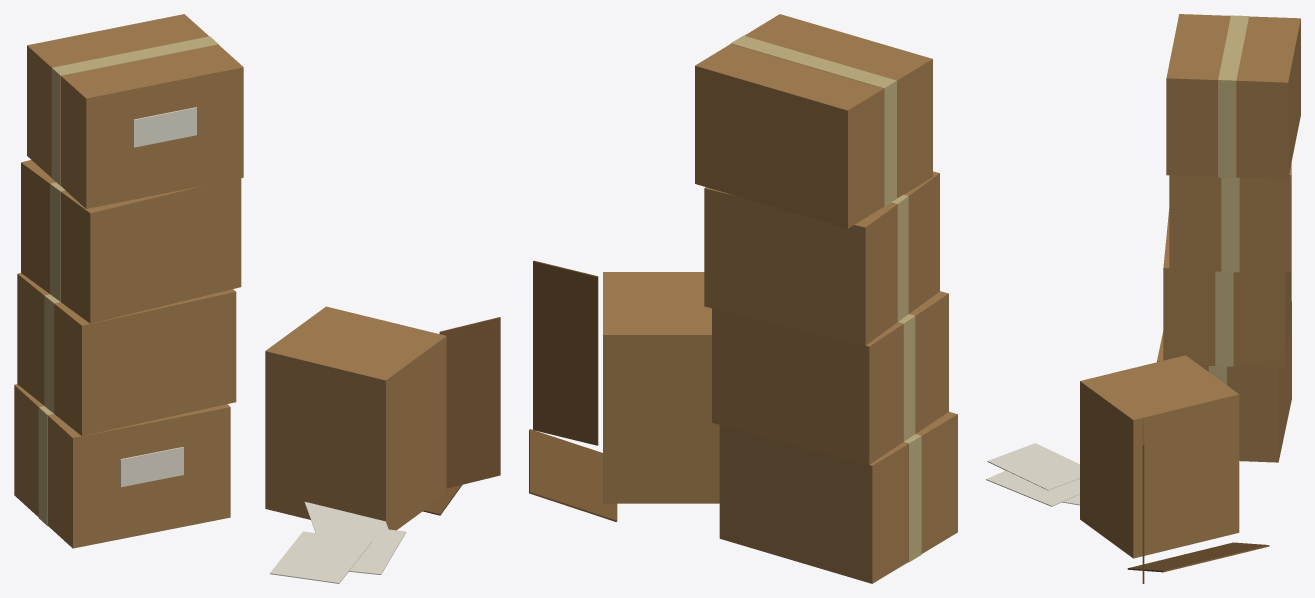
Rendered from box_pile_b.glb.
The picture shows the model from 3 angles, left to right: view 1: azimuth 30°, elevation 25°; view 2: azimuth 150°, elevation 25°; view 3: azimuth 270°, elevation 25°; orthographic projection. The views are drawn at different scales.
Visible parts, largest first — view 1: BoxPileB; view 2: BoxPileB; view 3: BoxPileB.
Boxes of the visible parts, x1,y1,x2,y2 form: BoxPileB: (14,14,500,583); BoxPileB: (529,14,957,583); BoxPileB: (986,14,1300,583).
Bounding box in the file's own units: 1.37 × 1.51 × 1.03.
